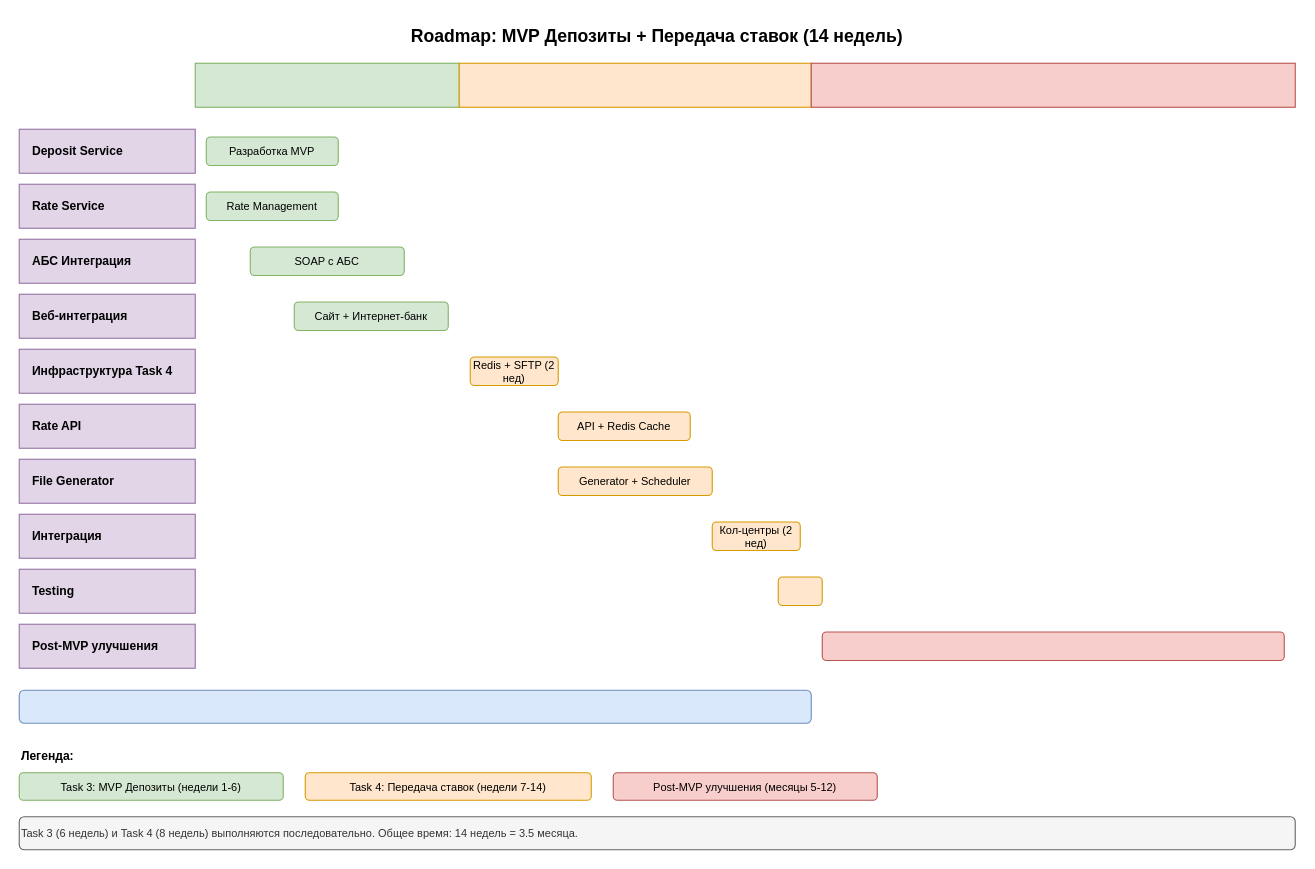
Image size: 1315x869. Some labels were removed from this diagram. Here are the shapes that lost their labels. From the top down, the centre of each, then its label:
At pixel 326 84: "Недели 1-6: Task 3 (MVP Депозиты)".
At pixel 634 84: "Недели 7-14: Task 4 (Передача ставок)".
At pixel 1052 84: "Месяцы 5-12: Post-MVP".
At pixel 799 591: "Go-Live (1 нед)".
At pixel 1052 646: "Kafka, Мониторинг, Масштабирование, Оптимизация".
At pixel 414 706: "Timeline: 14 недель (3.5 месяца)".
